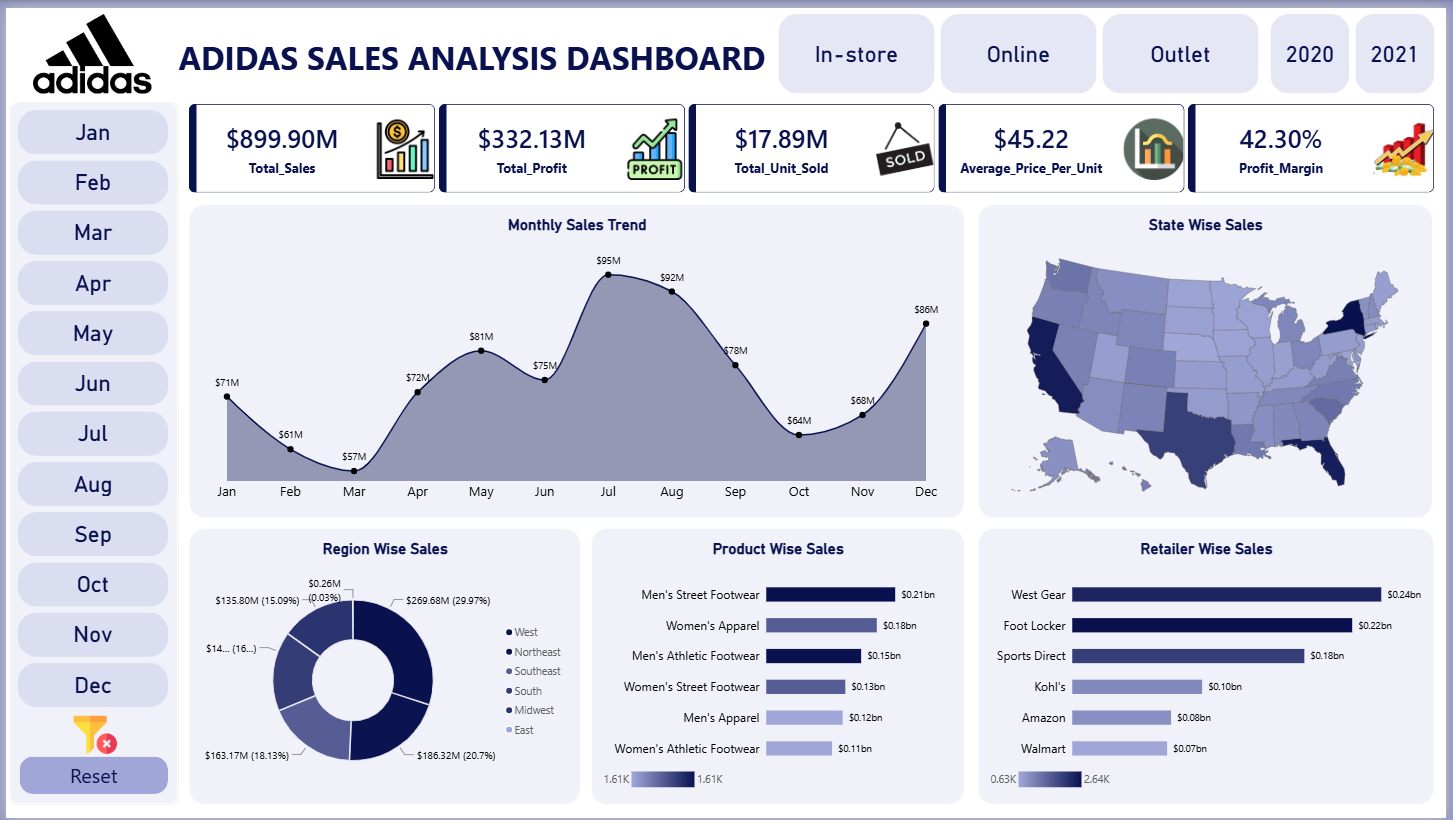

The dashboard page shown, as its layout file describes it:
{"tool":"powerbi","page":{"name":"Page 1","canvas":[1920,1080],"ordinal":0},"visuals":[{"type":"cardVisual","fields":{"Data":["Data Sales Adidas.Total_Sales","Data Sales Adidas.Total_Profit","Data Sales Adidas.Total_Unit_Sold","Data Sales Adidas.Average_Price_Per_Unit","Data Sales Adidas.Profit_Margin"]},"box":[244,128,1660,118],"z":0},{"type":"image","box":[0,8,230,106],"z":1000},{"type":"textbox","box":[230,36,794,82],"z":2000},{"type":"shape","box":[6,126,224,936],"z":3000},{"type":"areaChart","title":"Monthly Sales Trend","fields":{"Category":["Data Sales Adidas.Month"],"Y":["Data Sales Adidas.Total_Sales"]},"box":[244,262,1034,418],"z":4000},{"type":"shapeMap","title":"State Wise Sales","fields":{"Category":["Data Sales Adidas.State"],"Value":["Data Sales Adidas.Total_Sales"]},"box":[1296,262,606,418],"z":5000},{"type":"donutChart","title":"Region Wise Sales","fields":{"Category":["Data Sales Adidas.Region"],"Y":["Data Sales Adidas.Total_Sales"]},"box":[244,694,522,368],"z":6000},{"type":"clusteredBarChart","title":"Product Wise Sales","fields":{"Category":["Data Sales Adidas.Product"],"Y":["Data Sales Adidas.Total_Sales"]},"box":[780,694,498,368],"z":7000},{"type":"clusteredBarChart","title":"Retailer Wise Sales","fields":{"Category":["Data Sales Adidas.Retailer"],"Y":["Data Sales Adidas.Total_Sales"]},"box":[1296,694,608,368],"z":8000},{"type":"advancedSlicerVisual","fields":{"Values":["Data Sales Adidas.Sales Method"]},"box":[1030,8,642,106],"z":9000},{"type":"advancedSlicerVisual","fields":{"Values":["Data Sales Adidas.Invoice Date.Variation.Date Hierarchy.Year"]},"box":[1686,8,218,106],"z":10000},{"type":"advancedSlicerVisual","fields":{"Values":["Data Sales Adidas.Month"]},"box":[16,136,200,804],"z":11000},{"type":"image","box":[38,940,162,58],"z":12000},{"type":"actionButton","box":[18,998,198,50],"z":13000}]}

Visuals, with their boxes in screenshot pixels (x1, y1, x2, y2), scaled from the page's 1920x1080 canvas onto the 1453x820 screenshot:
cardVisual - Data Sales Adidas.Total_Sales x Data Sales Adidas.Total_Profit: 185 97 1441 187
image: 0 6 174 87
textbox: 174 27 775 90
shape: 5 96 174 806
"Monthly Sales Trend" areaChart: 185 199 967 516
"State Wise Sales" shapeMap: 981 199 1439 516
"Region Wise Sales" donutChart: 185 527 580 806
"Product Wise Sales" clusteredBarChart: 590 527 967 806
"Retailer Wise Sales" clusteredBarChart: 981 527 1441 806
advancedSlicerVisual - Data Sales Adidas.Sales Method: 779 6 1265 87
advancedSlicerVisual - Data Sales Adidas.Invoice Date.Variation.Date Hierarchy.Year: 1276 6 1441 87
advancedSlicerVisual - Data Sales Adidas.Month: 12 103 163 714
image: 29 714 151 758
actionButton: 14 758 163 796
